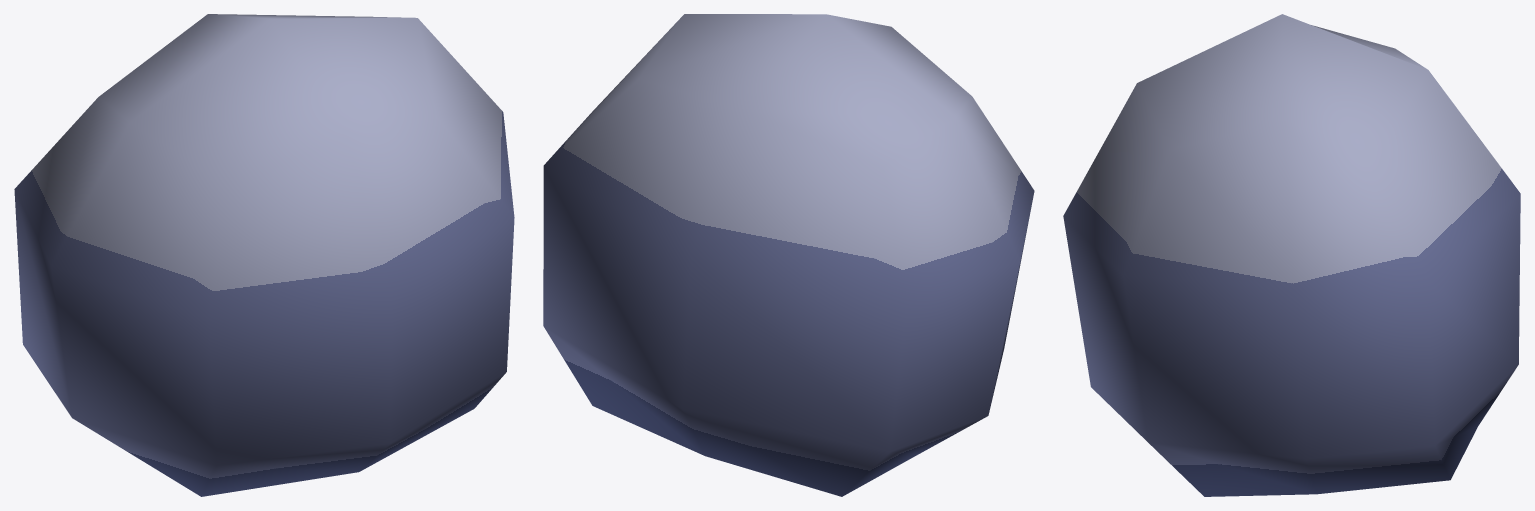
Rendered from map-rock-05.glb.
The picture shows the model from 3 angles, left to right: view 1: azimuth 30°, elevation 25°; view 2: azimuth 150°, elevation 25°; view 3: azimuth 270°, elevation 25°; orthographic projection. The views are drawn at different scales.
Parts seen in each view (by area): view 1: Rock05; view 2: Rock05; view 3: Rock05.
Part boxes in pixels (x1=…): Rock05: x1=14, y1=14, x2=514, y2=496; Rock05: x1=543, y1=14, x2=1034, y2=496; Rock05: x1=1063, y1=14, x2=1520, y2=496.
Size of the model in its own units: 2.5 by 2.25 by 2.2.
1 material, 1 textured.
